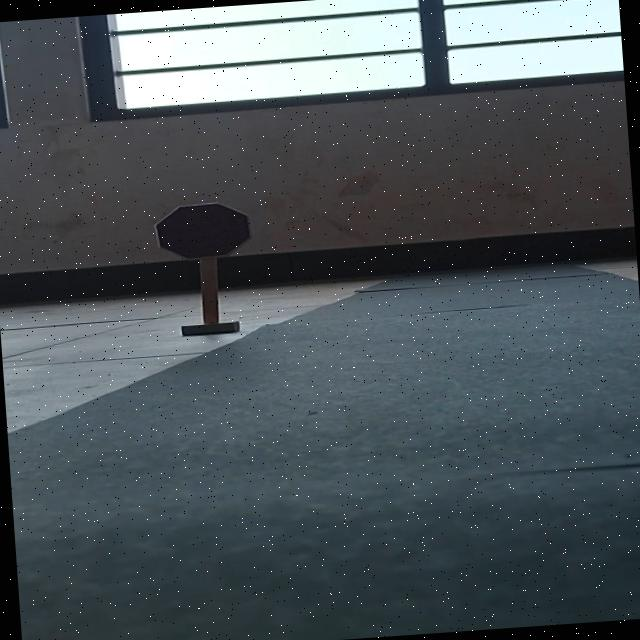Stop: (152, 199, 254, 262)
